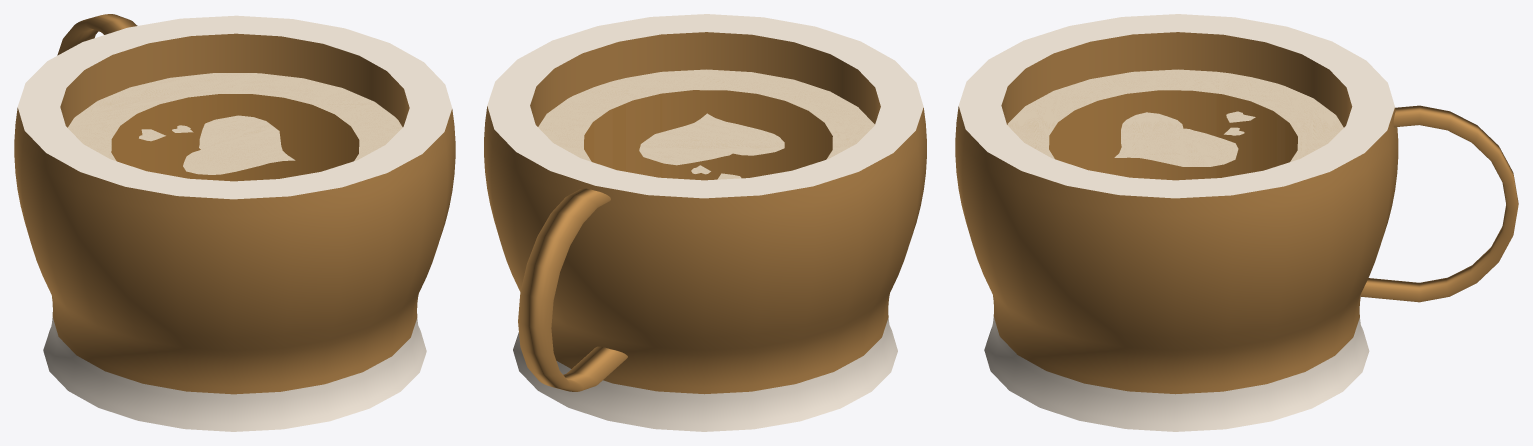
3 views of the same model, side by side, from view 1: azimuth 30°, elevation 25°; view 2: azimuth 150°, elevation 25°; view 3: azimuth 270°, elevation 25° (orthographic).
Parts seen in each view (by area): view 1: mesh4_mesh4-geometry_1, mesh4_mesh4-geometry, mesh12_mesh12-geometry_1, mesh12_mesh12-geometry, mesh1_mesh1-geometry; view 2: mesh4_mesh4-geometry_1, mesh4_mesh4-geometry, mesh12_mesh12-geometry_1, mesh12_mesh12-geometry, mesh1_mesh1-geometry; view 3: mesh4_mesh4-geometry_1, mesh4_mesh4-geometry, mesh12_mesh12-geometry_1, mesh12_mesh12-geometry, mesh1_mesh1-geometry.
Boxes of the visible parts, left/top/right/bottom form: mesh4_mesh4-geometry_1: left=14, top=33, right=455, bottom=394; mesh4_mesh4-geometry: left=17, top=15, right=452, bottom=431; mesh12_mesh12-geometry_1: left=68, top=73, right=402, bottom=174; mesh12_mesh12-geometry: left=111, top=94, right=358, bottom=180; mesh1_mesh1-geometry: left=57, top=14, right=137, bottom=55; mesh4_mesh4-geometry_1: left=484, top=32, right=926, bottom=394; mesh4_mesh4-geometry: left=487, top=14, right=923, bottom=431; mesh12_mesh12-geometry_1: left=538, top=69, right=874, bottom=179; mesh12_mesh12-geometry: left=584, top=90, right=832, bottom=179; mesh1_mesh1-geometry: left=518, top=188, right=627, bottom=391; mesh4_mesh4-geometry_1: left=955, top=32, right=1398, bottom=394; mesh4_mesh4-geometry: left=958, top=14, right=1394, bottom=431; mesh12_mesh12-geometry_1: left=1007, top=69, right=1343, bottom=166; mesh12_mesh12-geometry: left=1049, top=91, right=1297, bottom=179; mesh1_mesh1-geometry: left=1360, top=105, right=1518, bottom=302.
Size of the model in its own units: 0.5786 by 0.3522 by 0.7357.
